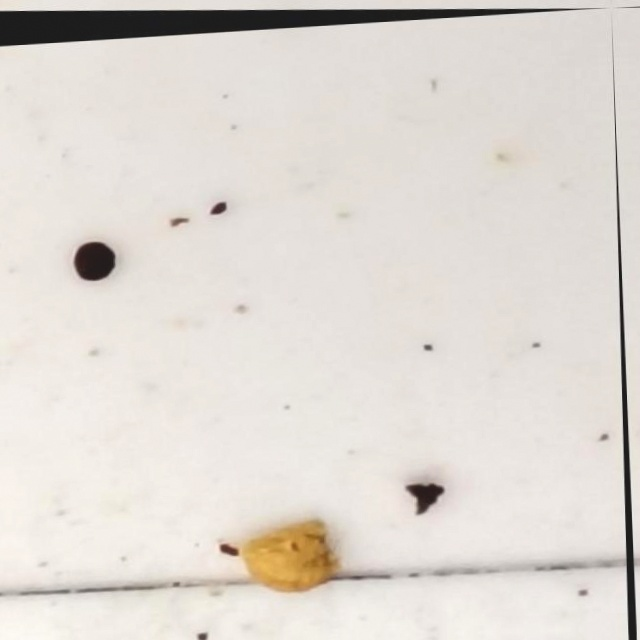varroa: (70, 237, 121, 285)
